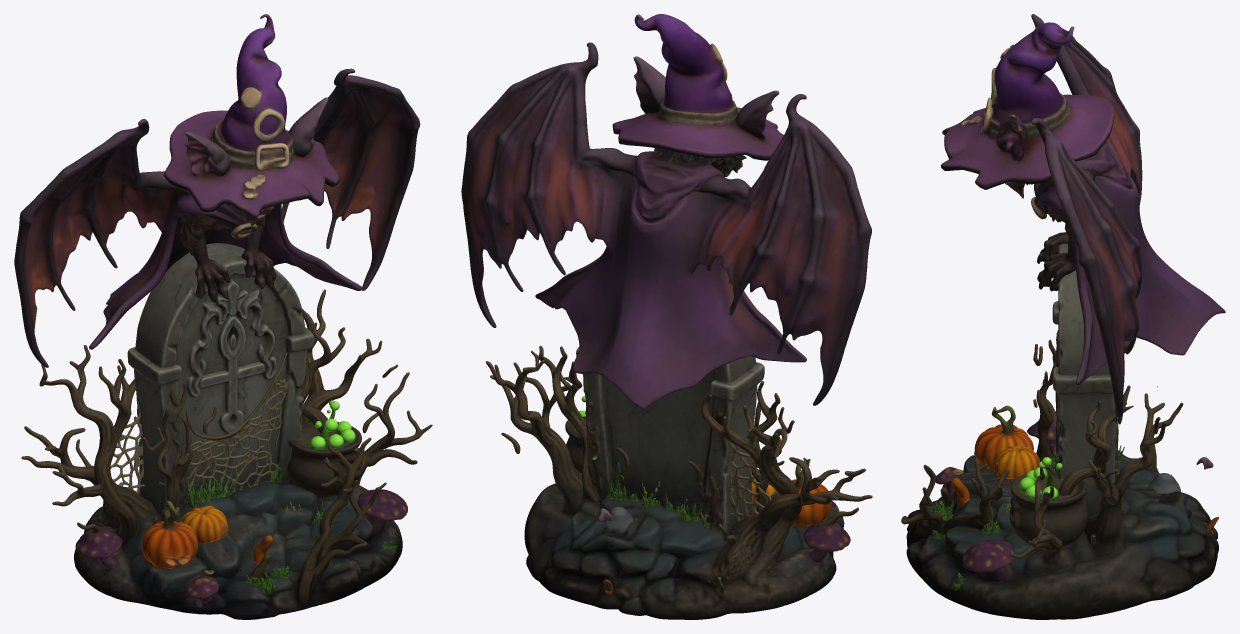
The model's file is tomb.glb.
The picture shows the model from 3 angles, left to right: view 1: azimuth 30°, elevation 25°; view 2: azimuth 150°, elevation 25°; view 3: azimuth 270°, elevation 25°; orthographic projection. The views are drawn at different scales.
Visible parts, largest first — view 1: world; view 2: world; view 3: world.
Boxes of the visible parts, bbox=[...] form: world: bbox=[14, 14, 432, 619]; world: bbox=[461, 14, 872, 619]; world: bbox=[901, 14, 1225, 619].
Bounding box in the file's own units: 0.7925 × 1 × 0.546.
1 material, 1 textured.
